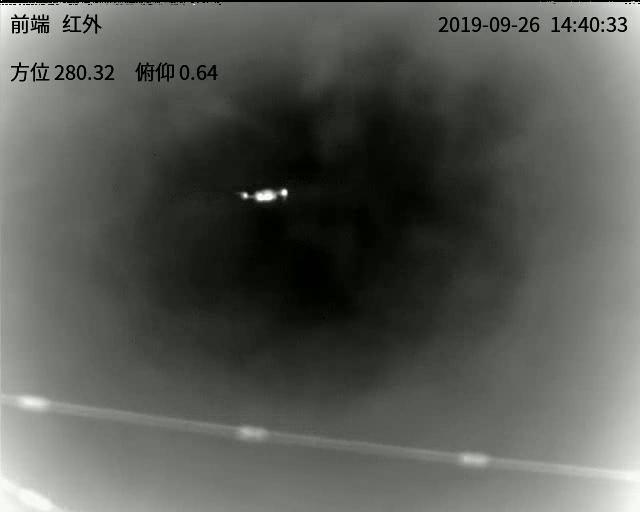DRONE: (236, 186, 289, 204)
